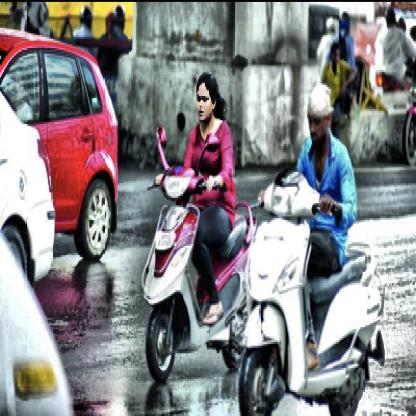not_wear: (309, 85, 333, 153), (196, 70, 218, 129)
